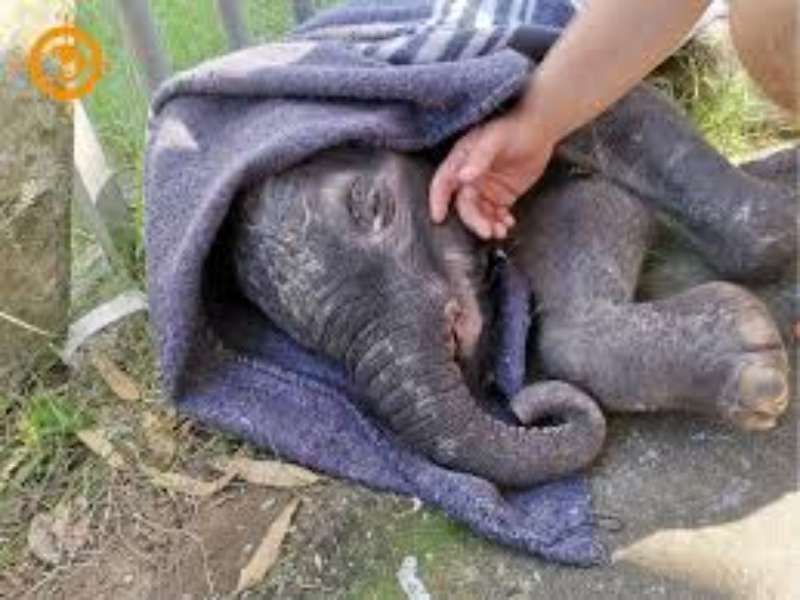elephant: (221, 167, 607, 540)
